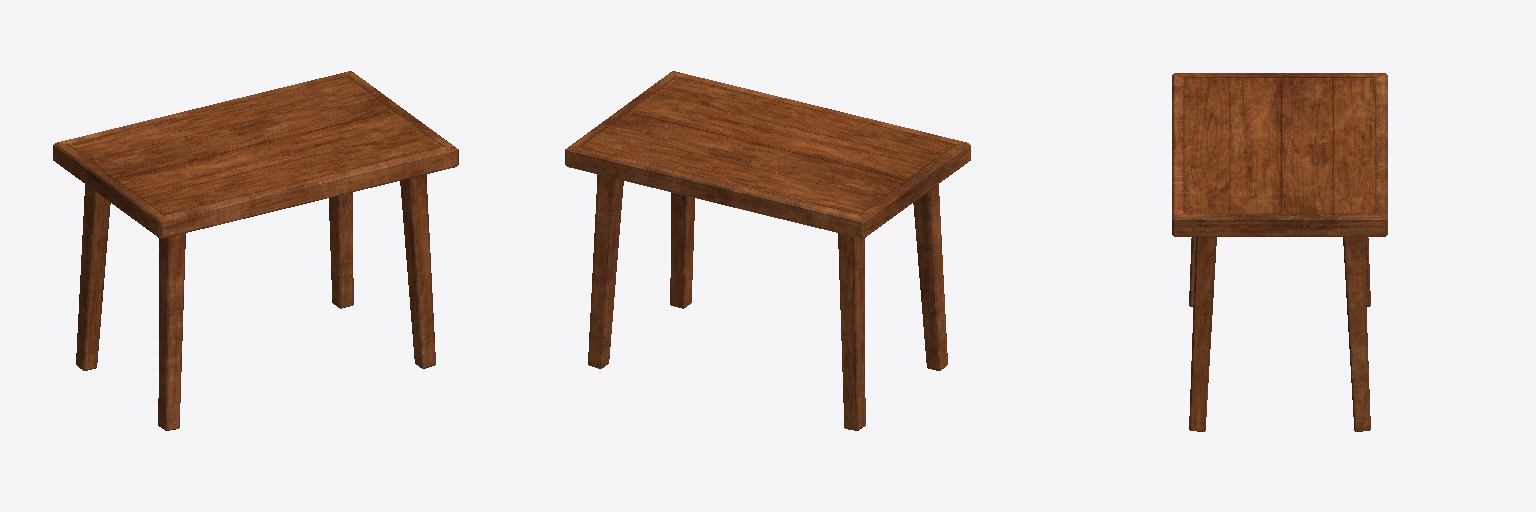
3 views of the same model, side by side, from view 1: azimuth 30°, elevation 25°; view 2: azimuth 150°, elevation 25°; view 3: azimuth 270°, elevation 25° (orthographic).
Visible parts, largest first — view 1: wooden_table_02_Cube.003; view 2: wooden_table_02_Cube.003; view 3: wooden_table_02_Cube.003.
Boxes of the visible parts, <box> form: wooden_table_02_Cube.003: <box>53,71,458,430</box>; wooden_table_02_Cube.003: <box>565,71,970,430</box>; wooden_table_02_Cube.003: <box>1172,73,1387,431</box>.
Bounding box in the file's own units: 1.13 × 0.7995 × 0.706.
1 materials, 1 textured.